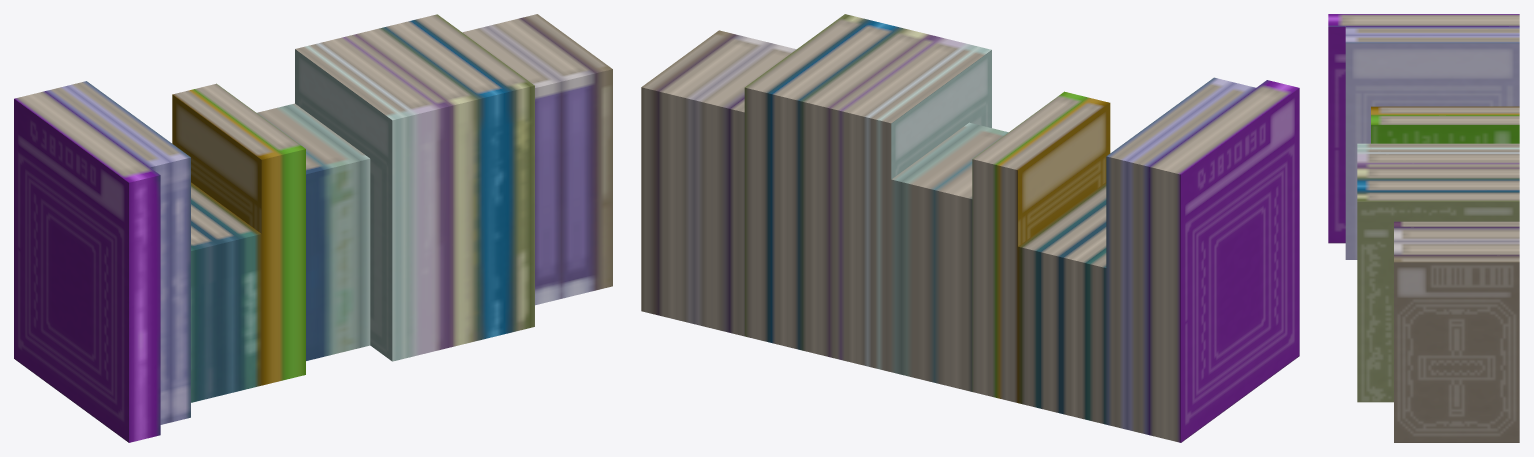
Rendered from Book_01_01.fbx.
The picture shows the model from 3 angles, left to right: view 1: azimuth 30°, elevation 25°; view 2: azimuth 150°, elevation 25°; view 3: azimuth 270°, elevation 25°; orthographic projection. The views are drawn at different scales.
Visible parts, largest first — view 1: book_01_01; view 2: book_01_01; view 3: book_01_01.
Boxes of the visible parts, left/top/right/bottom form: book_01_01: left=14, top=14, right=612, bottom=442; book_01_01: left=641, top=14, right=1299, bottom=442; book_01_01: left=1328, top=14, right=1519, bottom=442.
Bounding box in the file's own units: 58.97 × 28.01 × 22.43.
